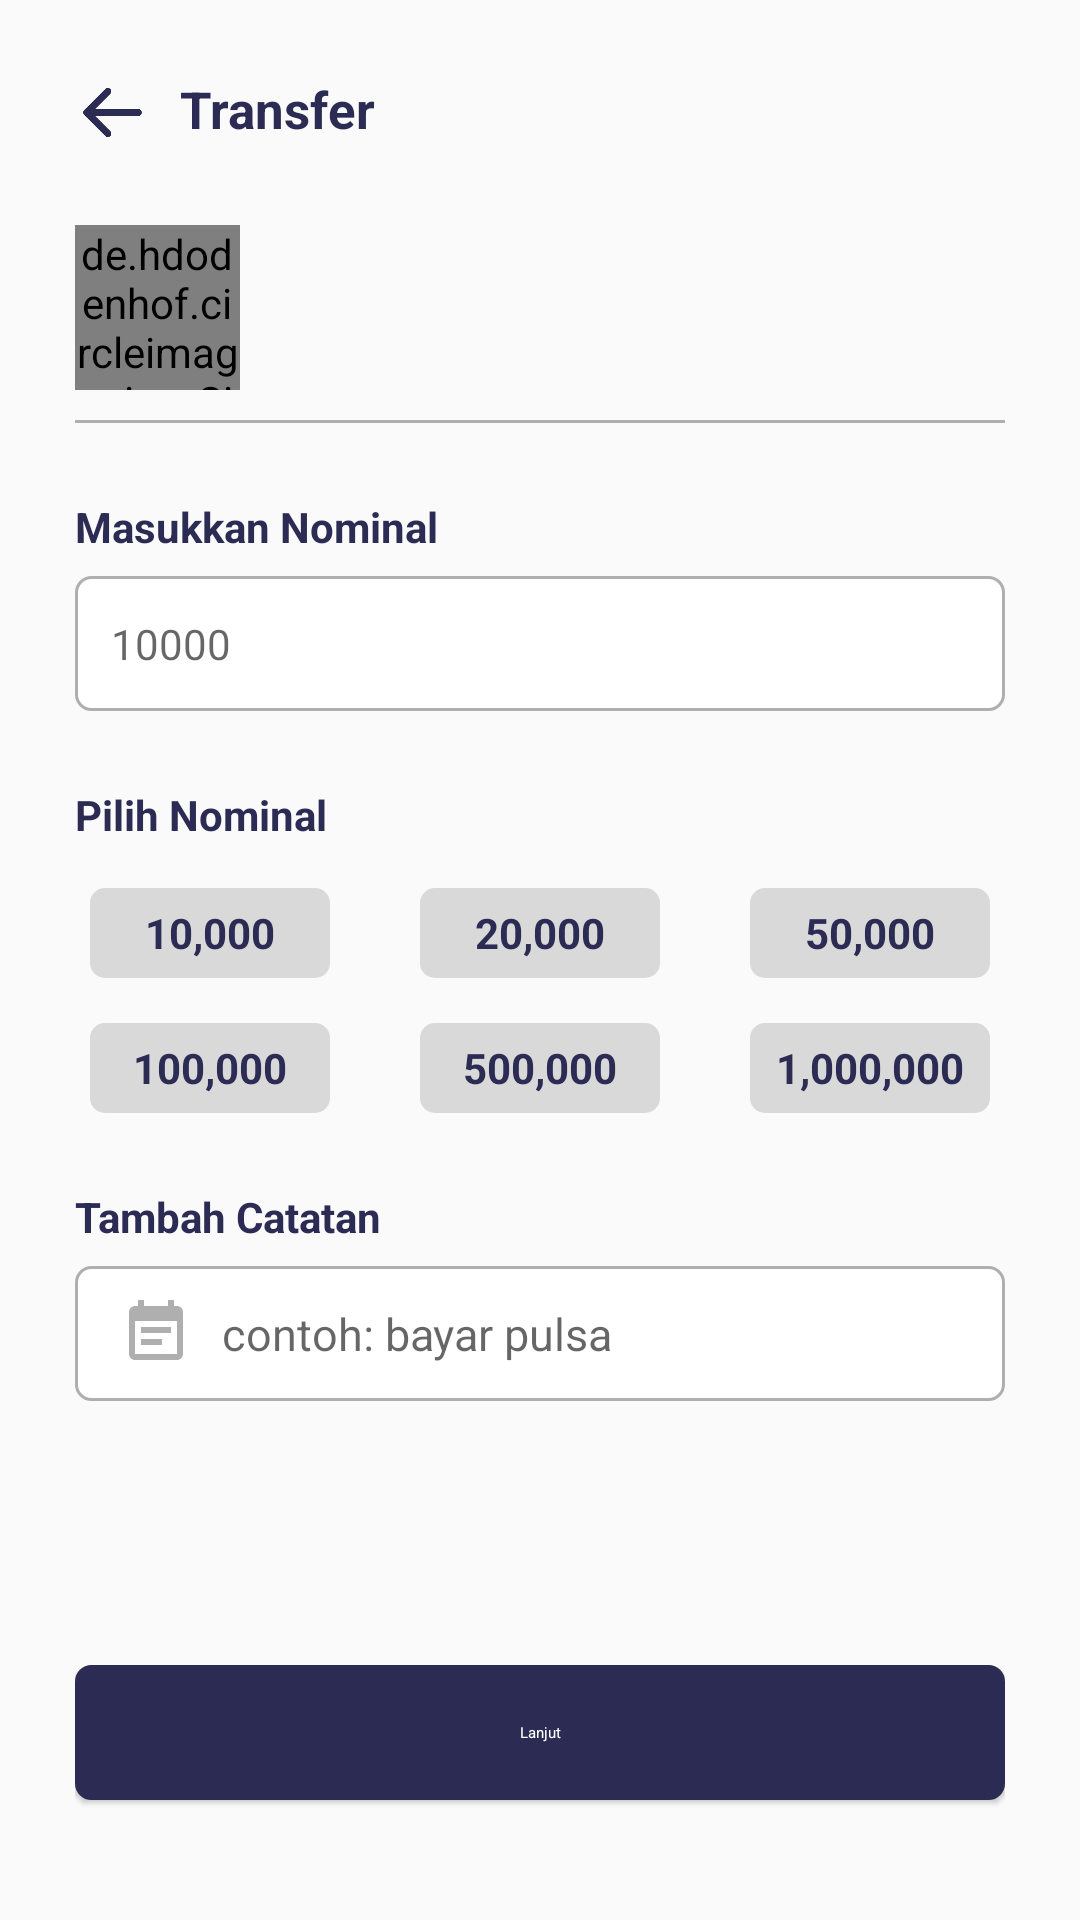

Screen size 1080x1920. Icon name, then its center in pixels as [x,y]:
arrow back: [112,112]
note: [156,1330]
